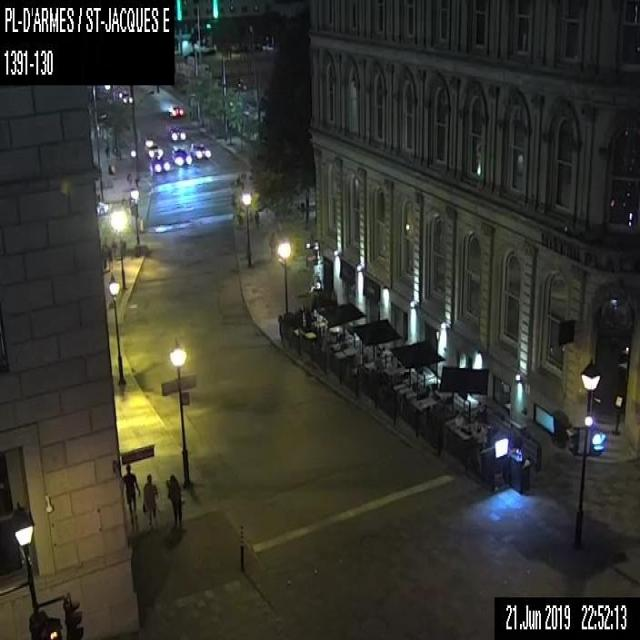pedestrian: (121, 463, 139, 521), (165, 473, 182, 530), (142, 472, 158, 525), (253, 208, 259, 228)
vehicle: (170, 144, 191, 165), (144, 139, 164, 158), (147, 158, 170, 174), (190, 142, 210, 159), (116, 87, 132, 105), (167, 126, 186, 140), (167, 104, 184, 118), (96, 200, 109, 215)
